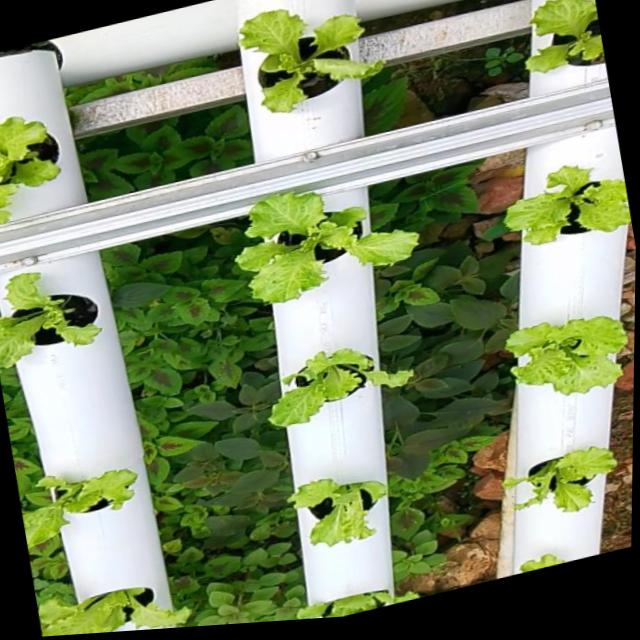Baby: (239, 194, 419, 302), (245, 12, 388, 115), (269, 348, 413, 425), (0, 271, 106, 371), (503, 168, 631, 247), (503, 316, 625, 395), (22, 466, 140, 544), (38, 583, 189, 637), (500, 446, 613, 510), (0, 119, 67, 225), (288, 477, 386, 543), (527, 0, 605, 76)
